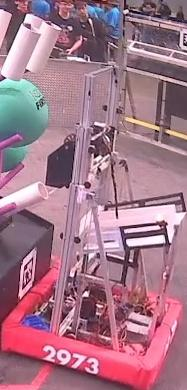red_number: (41, 342, 102, 377)
